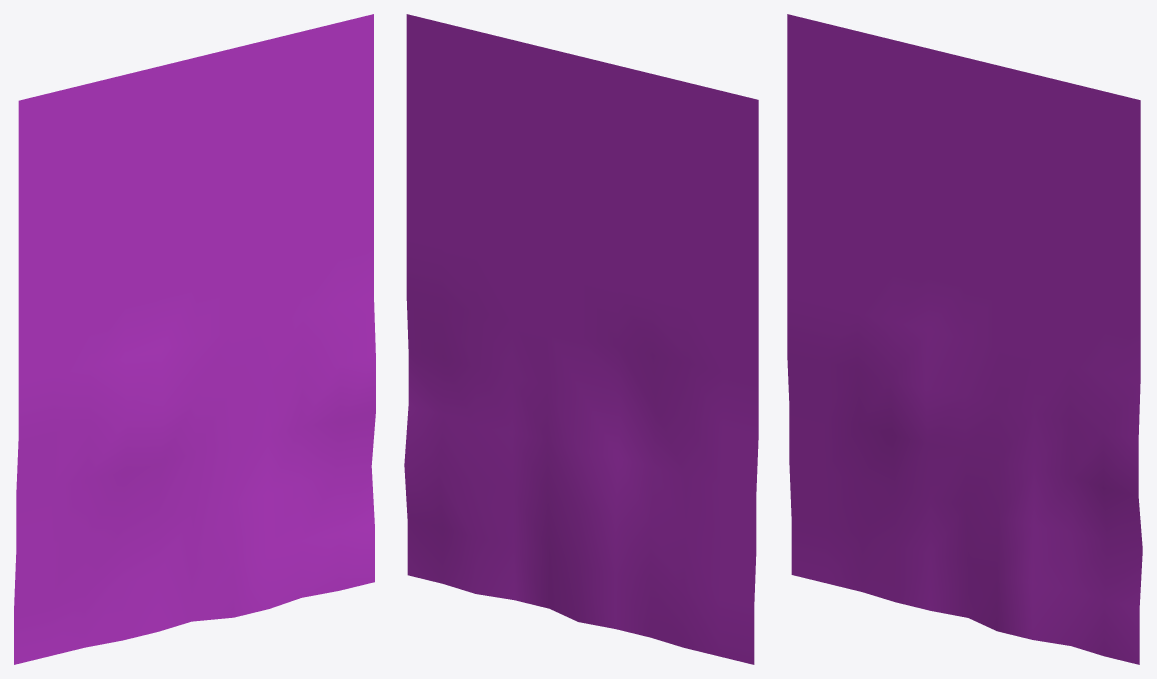
File: Poster02_mesh.fbx
The picture shows the model from 3 angles, left to right: view 1: azimuth 30°, elevation 25°; view 2: azimuth 150°, elevation 25°; view 3: azimuth 330°, elevation 25°; orthographic projection.
Visible parts, largest first — view 1: Poster02_mesh; view 2: Poster02_mesh; view 3: Poster02_mesh.
Part boxes in pixels (x1,y1,x2,y2): Poster02_mesh: (14, 14, 375, 664); Poster02_mesh: (404, 14, 758, 664); Poster02_mesh: (787, 14, 1142, 664).
Size of the model in its own units: 398 by 607 by 14.32.
